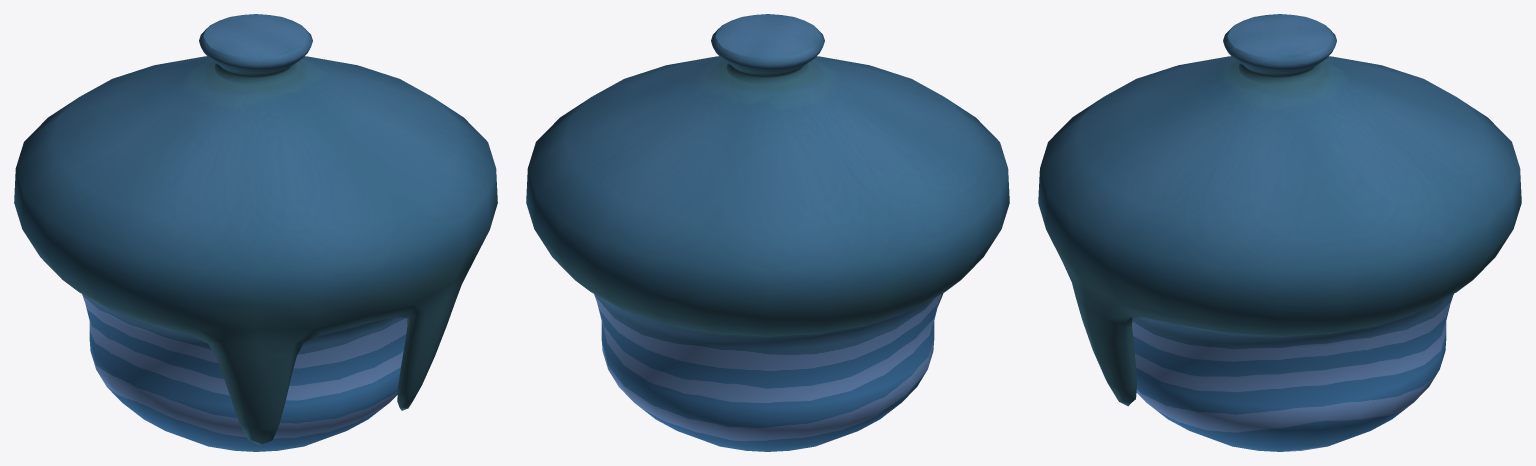
File: acorn_blue.gltf
The picture shows the model from 3 angles, left to right: view 1: azimuth 30°, elevation 25°; view 2: azimuth 150°, elevation 25°; view 3: azimuth 270°, elevation 25°; orthographic projection.
Parts seen in each view (by area): view 1: acorn_blue; view 2: acorn_blue; view 3: acorn_blue.
Boxes of the visible parts, x1=… form: acorn_blue: x1=14, y1=14, x2=497, y2=451; acorn_blue: x1=526, y1=14, x2=1009, y2=451; acorn_blue: x1=1038, y1=14, x2=1521, y2=451.
Size of the model in its own units: 0.3938 by 0.3662 by 0.3939.
1 material, 1 textured.
